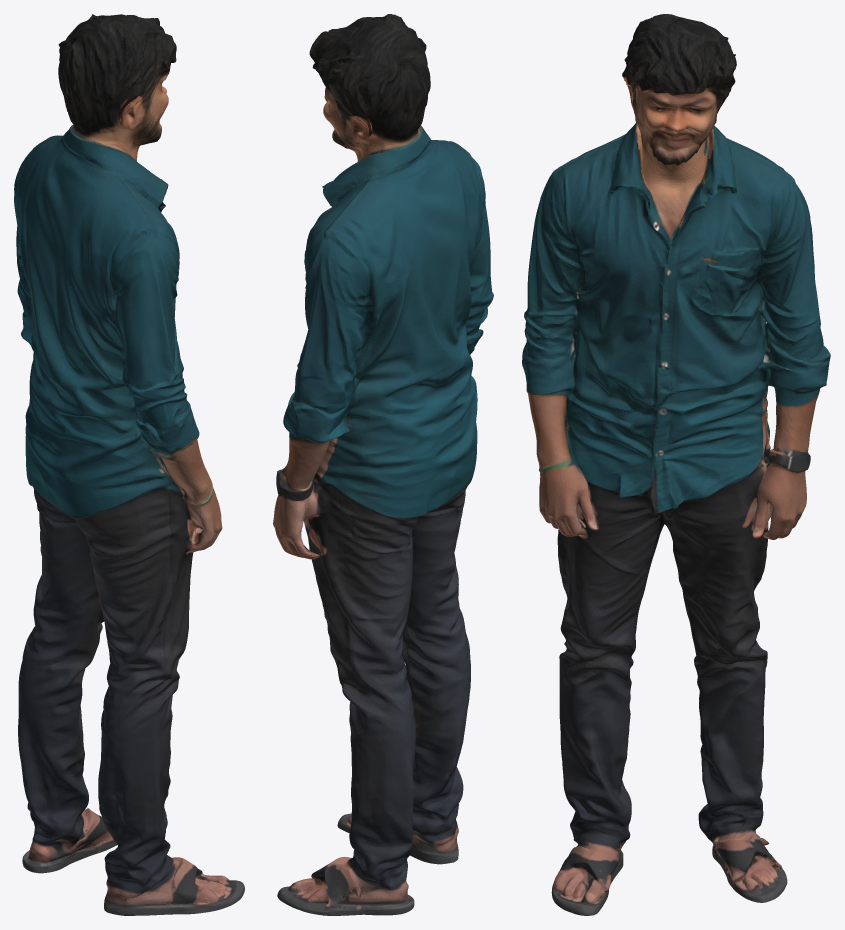
Rendered from man.glb.
3 views of the same model, side by side, from view 1: azimuth 30°, elevation 25°; view 2: azimuth 150°, elevation 25°; view 3: azimuth 270°, elevation 25° (orthographic).
Parts seen in each view (by area): view 1: tripo_node_739746ed-7e2c-4b86-af2f-cbd55a35465d; view 2: tripo_node_739746ed-7e2c-4b86-af2f-cbd55a35465d; view 3: tripo_node_739746ed-7e2c-4b86-af2f-cbd55a35465d.
Boxes of the visible parts, x1=… form: tripo_node_739746ed-7e2c-4b86-af2f-cbd55a35465d: x1=14, y1=14, x2=244, y2=915; tripo_node_739746ed-7e2c-4b86-af2f-cbd55a35465d: x1=273, y1=14, x2=493, y2=915; tripo_node_739746ed-7e2c-4b86-af2f-cbd55a35465d: x1=522, y1=14, x2=830, y2=915.
Size of the model in its own units: 0.1946 by 1 by 0.3258.
Materials: 1 (1 with a texture image).
